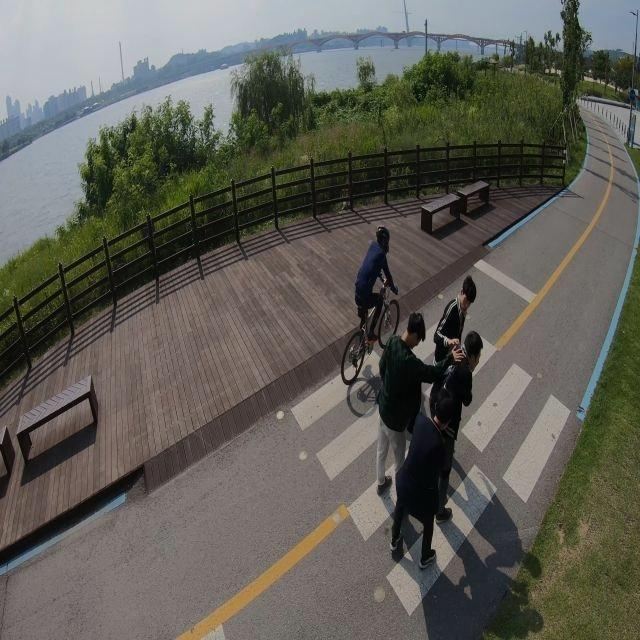fight: (370, 274, 483, 565)
non-fight: (353, 220, 399, 351)
